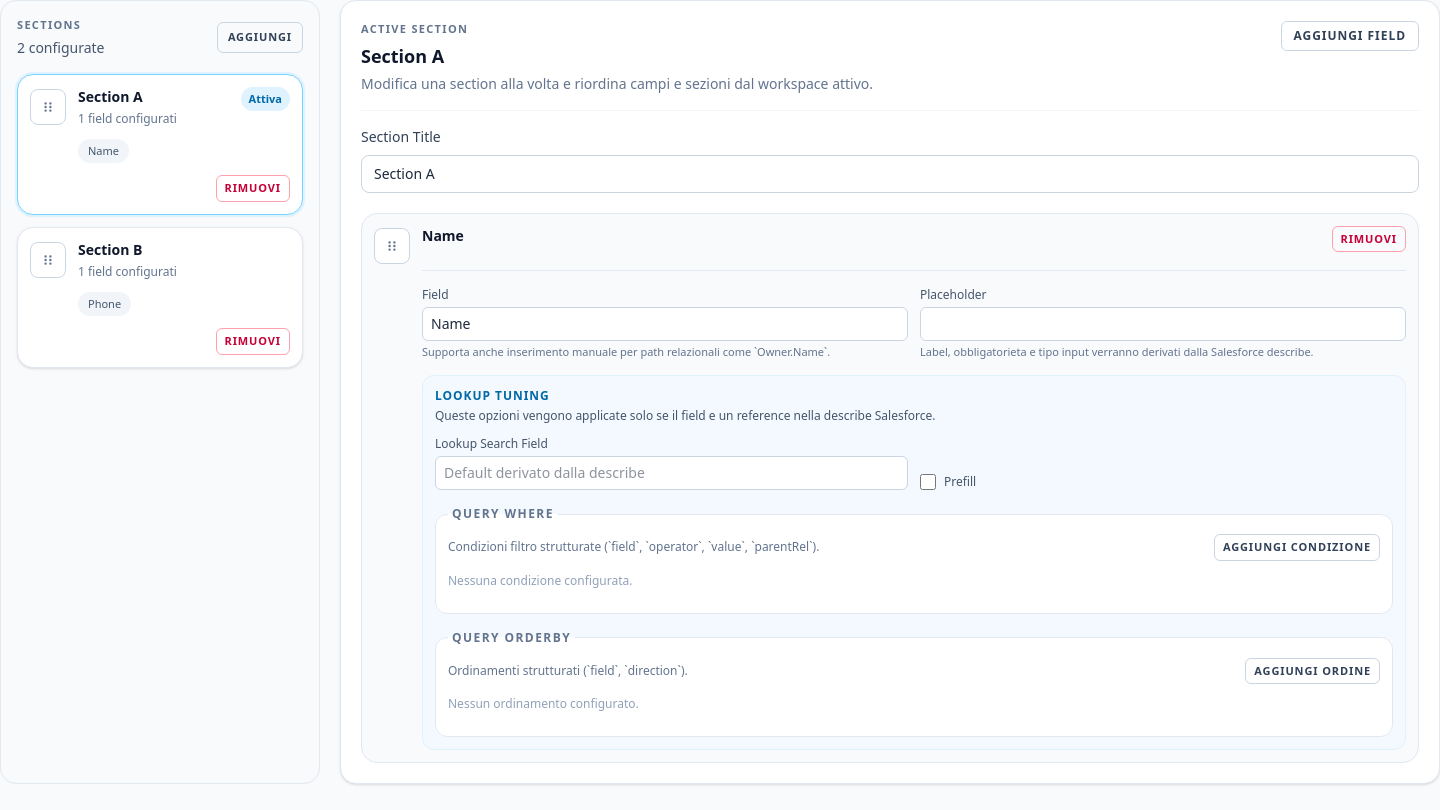
Test: FormSectionsEditor › focuses one active section at a time
Expected: the field showing "Name" is shown, left=422, top=306, right=908, bottom=340
Click the button "Section B 1 field configurati".
click(184, 260)  # box left=78, top=240, right=290, bottom=280
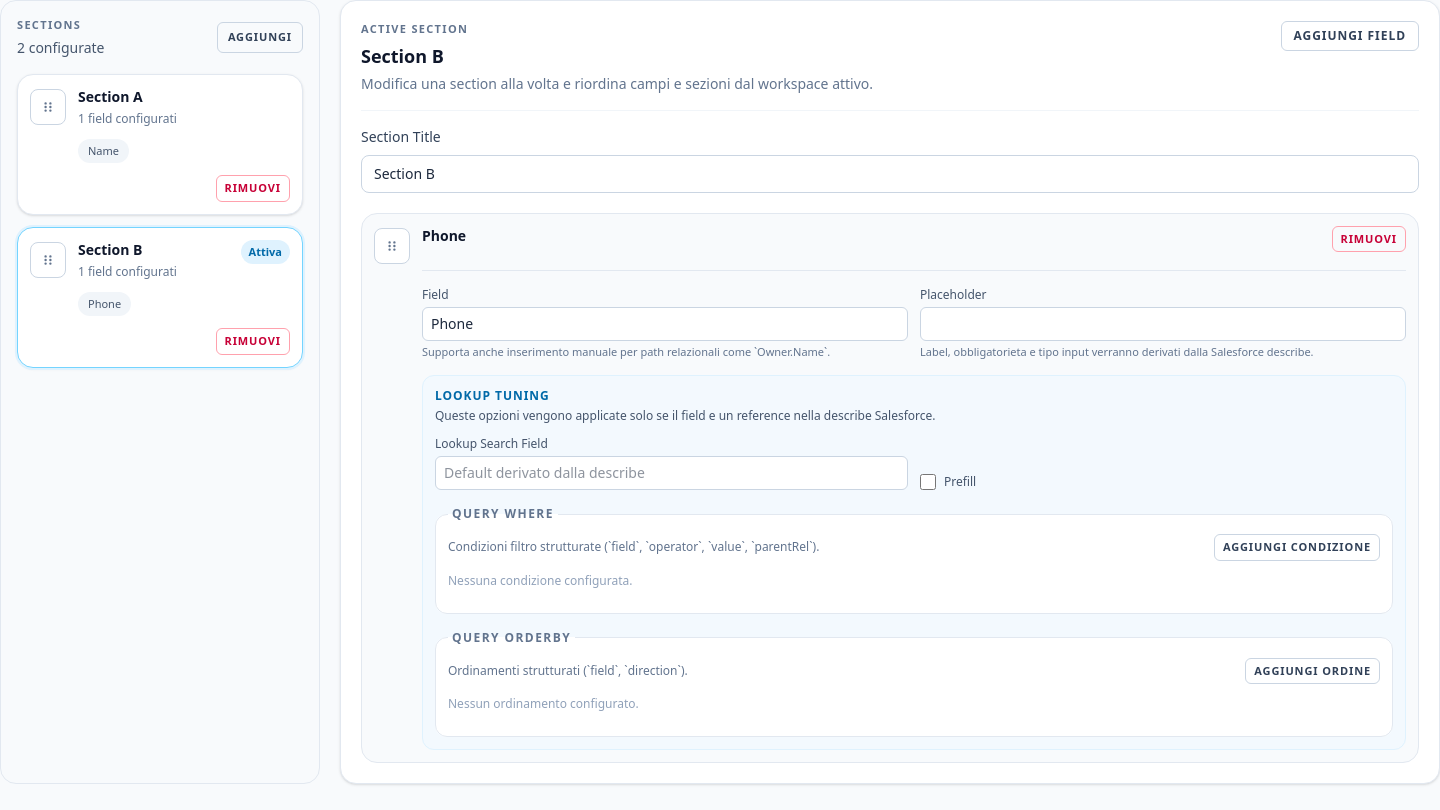
Now the field showing "Phone" is shown, box left=422, top=306, right=908, bottom=340
